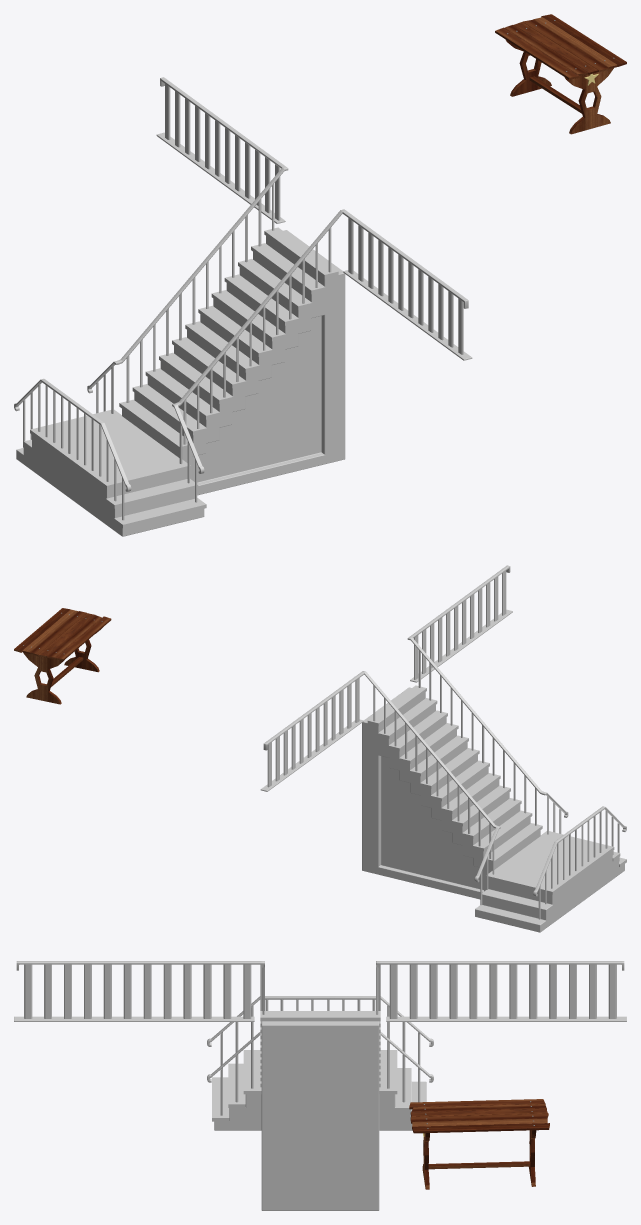
File: Stairs.fbx
3 renders of one model, top to bottom at view 1: azimuth 30°, elevation 25°; view 2: azimuth 150°, elevation 25°; view 3: azimuth 270°, elevation 25°, orthographic. The views are drawn at different scales.
Parts seen in each view (by area): view 1: Cube, Cube.030, Cube.041, Cube.035, Cube.071, Cube.043, Cube.042, Cube.072, Cube.055, Cube.073; view 2: Cube, Cube.030, Cube.041, Cube.035, Cube.071, Cube.043, Cube.042, Cube.073; view 3: Cube, Cube.041, Cube.035, Cube.043, Cube.042, Cube.030, Cube.071, Cube.073, Cube.072, Cube.055, Cube.056.
Part boxes in pixels (x1,y1,x2,y2): Cube: (16,230,345,536); Cube.030: (119,227,338,450); Cube.041: (165,84,463,354); Cube.035: (495,14,626,134); Cube.071: (30,409,190,489); Cube.043: (87,77,468,473); Cube.042: (156,132,472,360); Cube.072: (114,498,206,528); Cube.055: (106,479,198,508); Cube.073: (14,378,131,491); Cube: (362,687,624,932); Cube.030: (367,685,542,863); Cube.041: (267,571,506,787); Cube.035: (14,608,111,704); Cube.071: (485,831,614,894); Cube.043: (263,565,568,882); Cube.042: (260,609,512,791); Cube.073: (533,806,626,896); Cube: (214,1021,426,1210); Cube.041: (24,964,616,1018); Cube.035: (409,1099,549,1189); Cube.043: (16,961,624,1082); Cube.042: (14,1016,626,1021); Cube.030: (260,1011,380,1087); Cube.071: (243,1050,397,1094); Cube.073: (207,996,433,1046); Cube.072: (212,1077,229,1121); Cube.055: (228,1063,245,1107); Cube.056: (235,1054,405,1102).
Size of the model in its own units: 1543 by 621 by 1357.
